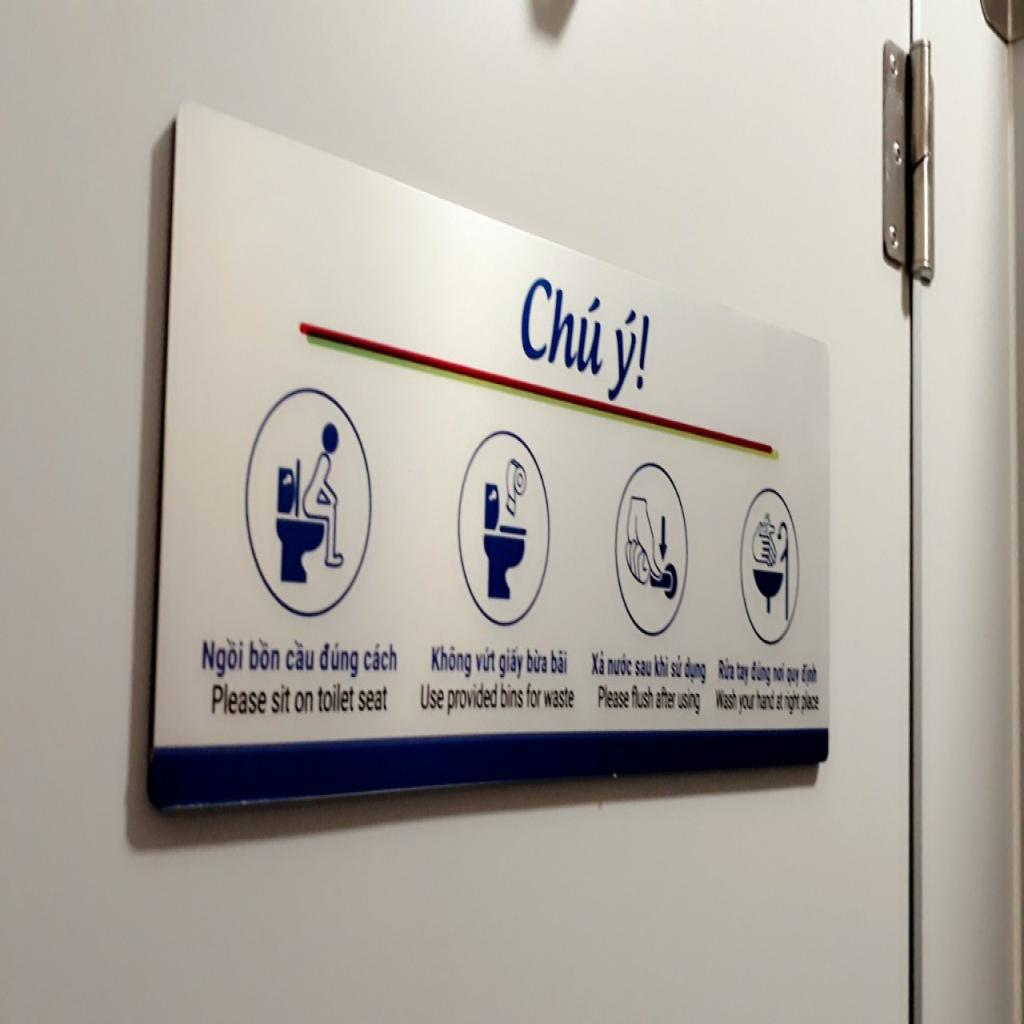text: (519, 266, 608, 383), (605, 303, 651, 410), (210, 681, 266, 717), (200, 634, 244, 678), (318, 638, 361, 682), (446, 685, 499, 717), (429, 643, 473, 681), (317, 681, 355, 714), (283, 638, 315, 676), (248, 639, 282, 674), (362, 640, 398, 673), (542, 684, 578, 713), (596, 681, 630, 711), (498, 644, 524, 683), (356, 687, 390, 714), (683, 654, 707, 690), (419, 681, 445, 714), (751, 657, 773, 691), (678, 690, 702, 720), (526, 644, 548, 676), (499, 684, 525, 711), (269, 684, 291, 714), (475, 644, 497, 674), (549, 647, 570, 677), (607, 653, 633, 677), (630, 687, 656, 711), (754, 690, 777, 717), (588, 647, 607, 679), (714, 688, 739, 712), (525, 680, 543, 711), (292, 690, 314, 714), (656, 688, 678, 712), (653, 650, 670, 678), (718, 657, 736, 683), (634, 654, 654, 677), (736, 660, 750, 690), (802, 661, 818, 687), (784, 691, 802, 713), (738, 694, 756, 715), (786, 664, 801, 688), (772, 663, 786, 687), (671, 653, 684, 678), (777, 693, 785, 714)
